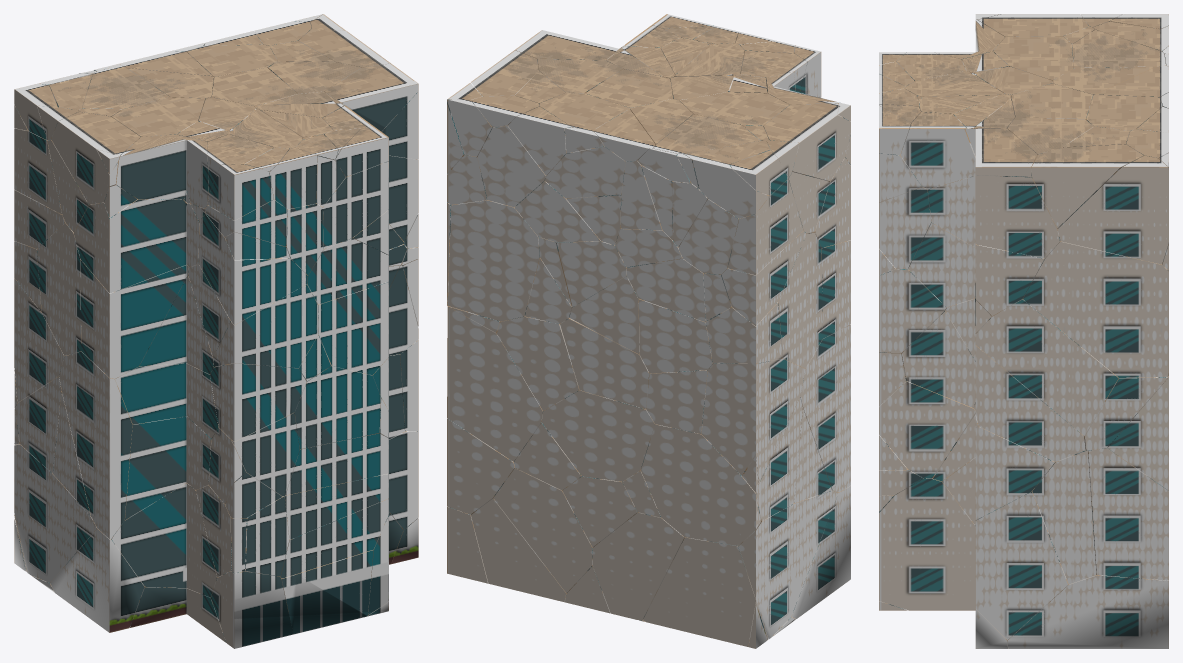
File: building main_2_fecture .fbx
3 renders of one model, left to right at view 1: azimuth 30°, elevation 25°; view 2: azimuth 150°, elevation 25°; view 3: azimuth 270°, elevation 25°, orthographic.
Parts seen in each view (by area): view 1: Box001_cell.037, Box001_cell.096, Box001_cell.049, Box001_cell.100, Box001_cell.076, Box001_cell.005, Box001_cell.059, Box001_cell.046, Box001_cell.190, Box001_cell.057, Box001_cell.162, Box001_cell.077 (+68 smaller); view 2: Box001_cell.007, Box001_cell.166, Box001_cell.025, Box001_cell.131, Box001_cell.197, Box001_cell.076, Box001_cell.103, Box001_cell.016, Box001_cell.110, Box001_cell.096, Box001_cell.079, Box001_cell.168 (+66 smaller); view 3: Box001_cell.053, Box001_cell.067, Box001_cell.030, Box001_cell.033, Box001_cell.098, Box001_cell.176, Box001_cell.118, Box001_cell.120, Box001_cell.069, Box001_cell.187, Box001_cell.179, Box001_cell.128 (+44 smaller).
Part boxes in pixels (x1,y1,x2,y2): Box001_cell.037: [74, 199, 199, 293]; Box001_cell.096: [59, 351, 132, 539]; Box001_cell.049: [111, 483, 217, 597]; Box001_cell.100: [80, 259, 188, 378]; Box001_cell.076: [14, 445, 97, 582]; Box001_cell.005: [125, 416, 211, 519]; Box001_cell.059: [50, 528, 144, 632]; Box001_cell.046: [213, 284, 318, 368]; Box001_cell.190: [198, 214, 307, 325]; Box001_cell.057: [294, 365, 380, 448]; Box001_cell.162: [116, 134, 209, 208]; Box001_cell.077: [210, 363, 306, 441]; Box001_cell.007: [641, 424, 761, 545]; Box001_cell.166: [448, 200, 539, 321]; Box001_cell.025: [447, 307, 543, 461]; Box001_cell.131: [701, 358, 805, 483]; Box001_cell.197: [643, 537, 768, 646]; Box001_cell.076: [738, 490, 838, 638]; Box001_cell.103: [541, 390, 655, 481]; Box001_cell.016: [592, 512, 684, 619]; Box001_cell.110: [493, 468, 593, 593]; Box001_cell.096: [792, 325, 850, 492]; Box001_cell.079: [560, 318, 648, 409]; Box001_cell.168: [471, 498, 566, 602]; Box001_cell.053: [1023, 241, 1168, 377]; Box001_cell.067: [879, 478, 975, 610]; Box001_cell.030: [1007, 575, 1168, 648]; Box001_cell.033: [975, 299, 1118, 435]; Box001_cell.098: [975, 488, 1068, 640]; Box001_cell.176: [1085, 448, 1168, 580]; Box001_cell.118: [1057, 155, 1168, 264]; Box001_cell.120: [975, 345, 1085, 461]; Box001_cell.069: [879, 380, 975, 478]; Box001_cell.187: [975, 175, 1060, 258]; Box001_cell.179: [1032, 450, 1096, 584]; Box001_cell.128: [1031, 144, 1143, 228].
Size of the model in its own units: 190 by 279 by 152.
